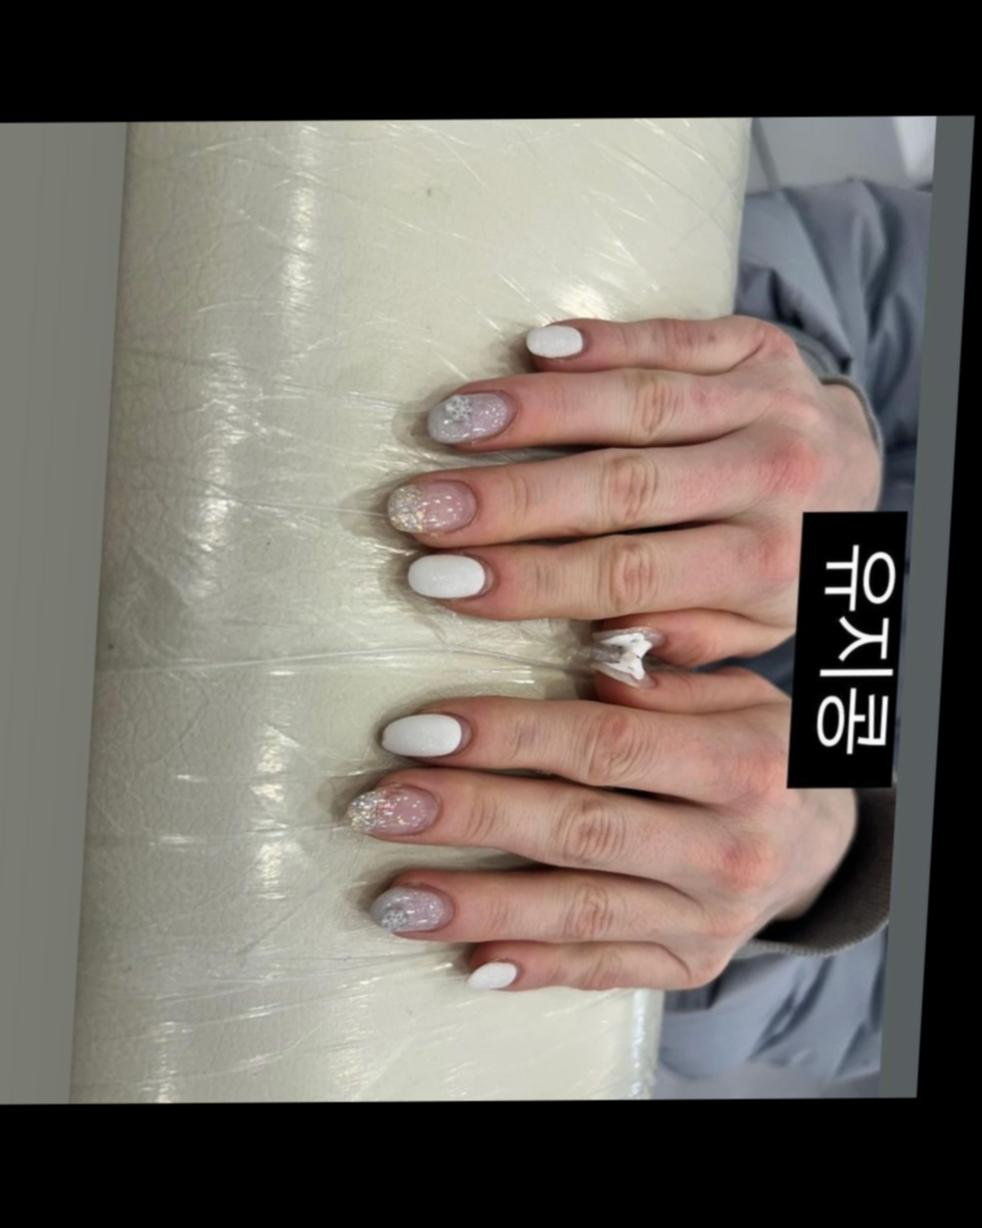nail: (383, 477, 481, 535), (425, 388, 519, 446), (344, 782, 443, 837), (367, 882, 457, 934), (378, 710, 471, 758), (404, 551, 493, 600), (522, 323, 586, 359), (464, 958, 521, 990)
